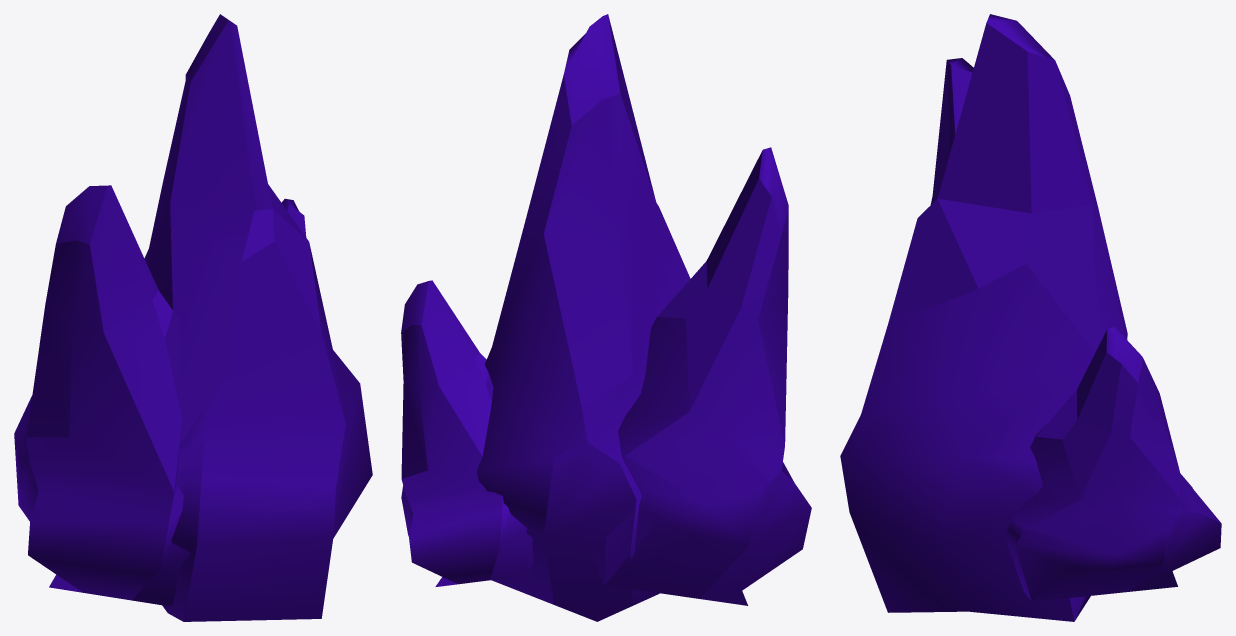
The model's file is IceChunks.fbx.
3 renders of one model, left to right at view 1: azimuth 30°, elevation 25°; view 2: azimuth 150°, elevation 25°; view 3: azimuth 270°, elevation 25°, orthographic.
Parts seen in each view (by area): view 1: pCube111, pCube112; view 2: pCube111, pCube112, pCube113; view 3: pCube111, pCube113, pCube112.
Boxes of the visible parts, x1,y1,x2,y2 form: pCube111: (144,14,372,621); pCube112: (14,185,189,605); pCube111: (477,14,690,621); pCube112: (595,147,811,605); pCube113: (401,280,533,586); pCube111: (840,14,1127,621); pCube113: (1006,327,1221,601); pCube112: (930,58,973,204).
Size of the model in its own units: 791 by 1251 by 749.
